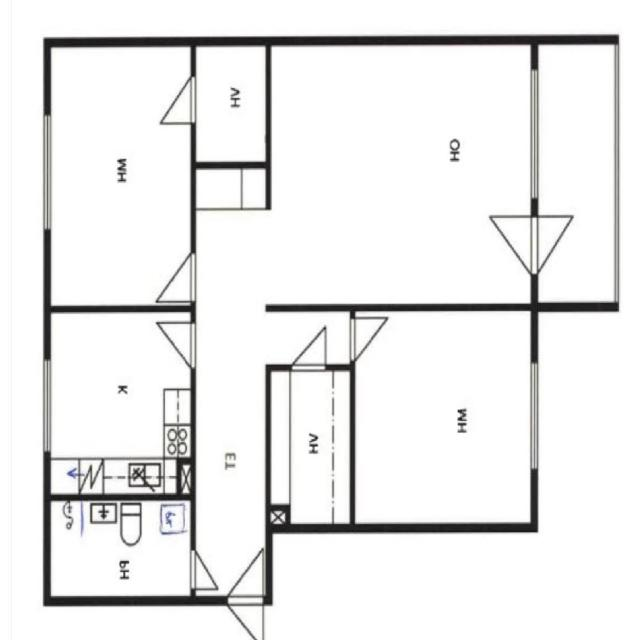door: (531, 216, 583, 274), (487, 216, 539, 274), (152, 253, 196, 302), (228, 550, 264, 606), (155, 77, 196, 122), (156, 322, 196, 368), (350, 317, 390, 361), (292, 320, 326, 371), (228, 596, 264, 640), (191, 550, 226, 589)
